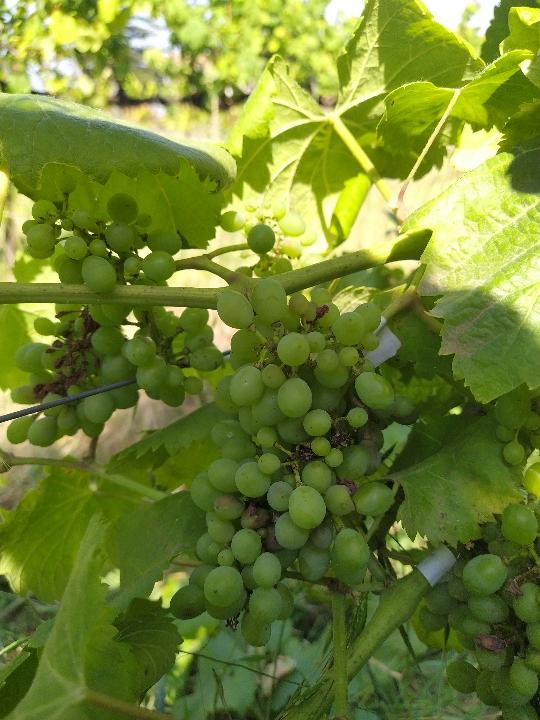grape: (169, 277, 422, 651), (7, 168, 225, 448)
